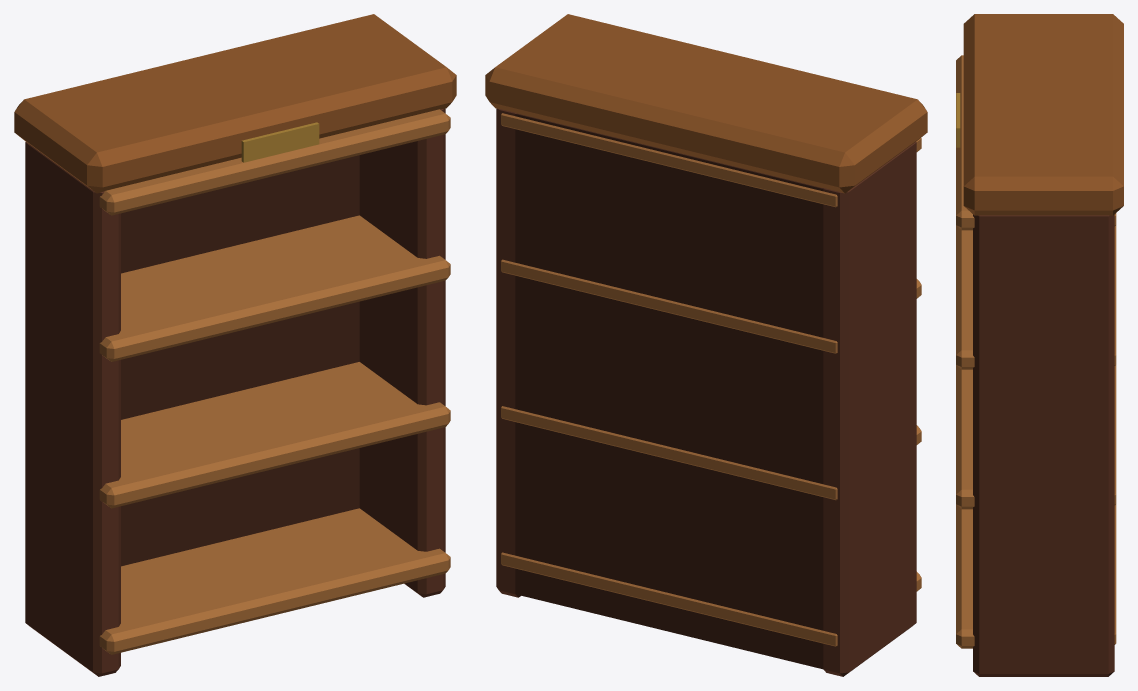
File: shelf.glb
The picture shows the model from 3 angles, left to right: view 1: azimuth 30°, elevation 25°; view 2: azimuth 150°, elevation 25°; view 3: azimuth 270°, elevation 25°; orthographic projection. The views are drawn at different scales.
Visible parts, largest first — view 1: Body_mesh; view 2: Body_mesh; view 3: Body_mesh.
Boxes of the visible parts, x1,y1,x2,y2 form: Body_mesh: [14, 14, 456, 676]; Body_mesh: [485, 14, 927, 676]; Body_mesh: [956, 14, 1123, 676].
Bounding box in the file's own units: 1.32 × 1.8 × 0.545.
